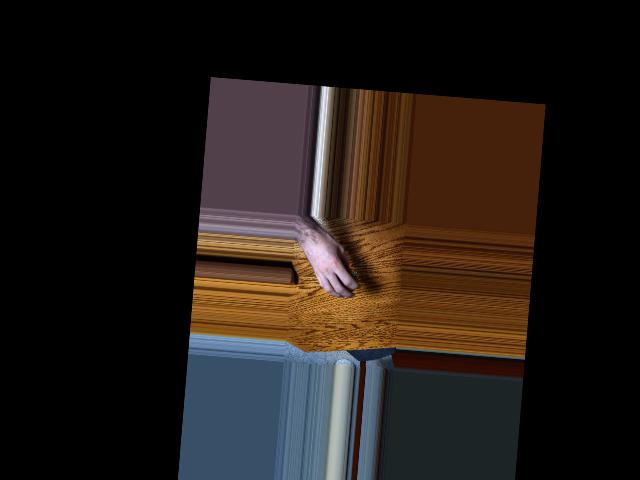onion: (332, 267, 359, 293)
